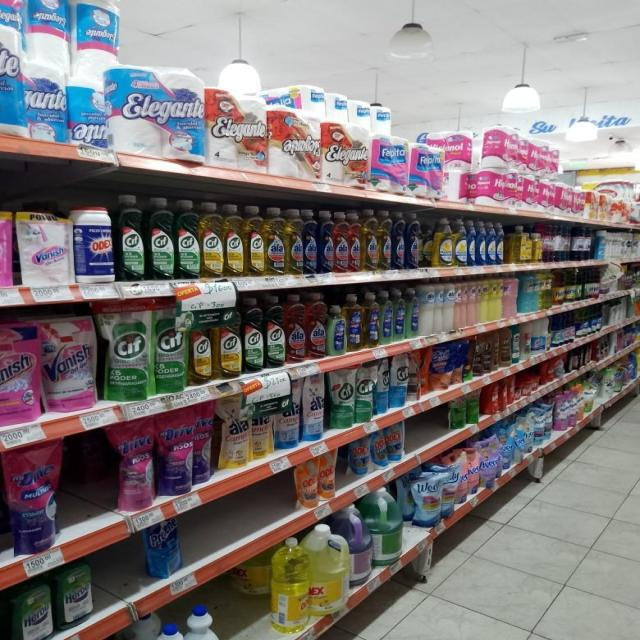ala_conc_amarillo: (264, 206, 285, 276), (286, 208, 302, 275), (363, 209, 378, 272), (378, 210, 392, 271)
ala_conc_azul: (303, 209, 318, 275), (318, 210, 333, 274), (406, 212, 421, 270), (392, 211, 405, 270)
ala_conc_rojo: (285, 294, 306, 364), (307, 292, 326, 360), (334, 210, 348, 274), (348, 210, 362, 274)
ala_crem_blanco: (443, 278, 455, 332)
cif_conc_bot_amarilla: (214, 300, 241, 379), (189, 300, 213, 385), (200, 201, 222, 278), (244, 204, 264, 276), (224, 204, 243, 278)
cif_conc_botella_verde: (117, 194, 145, 282), (148, 197, 175, 281), (176, 199, 200, 279), (242, 296, 264, 372), (265, 295, 284, 368)
cif_conc_sachet_verde: (102, 297, 152, 401), (154, 297, 187, 393)
magistral_con_amarillo: (433, 217, 452, 268), (453, 218, 468, 268)
zorro: (346, 293, 362, 352), (363, 292, 379, 349)
